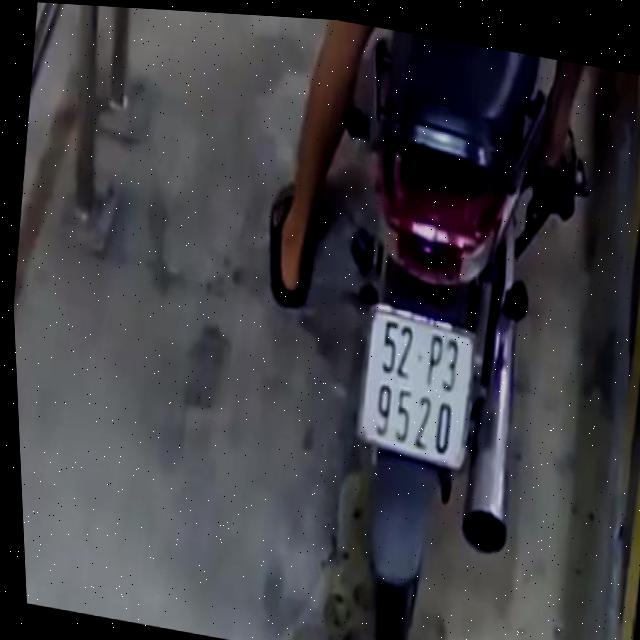motorcycle: (262, 22, 596, 640)
plate: (344, 297, 487, 478)
